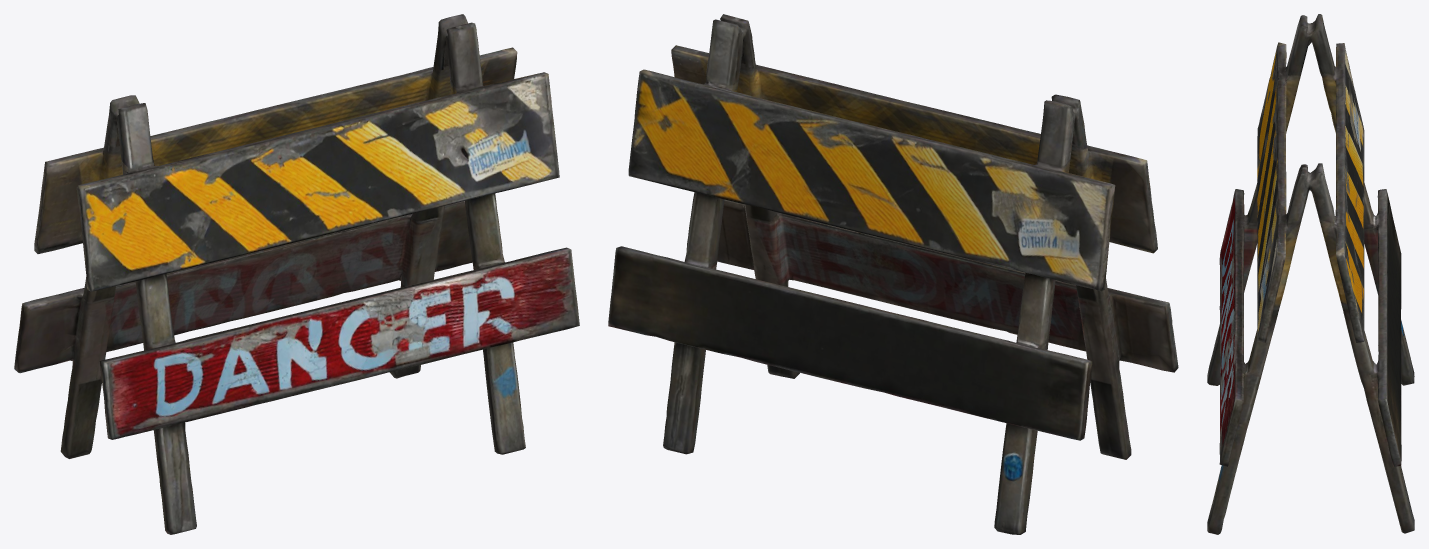
Rendered from danger_barrier_proops.glb.
3 views of the same model, side by side, from view 1: azimuth 30°, elevation 25°; view 2: azimuth 150°, elevation 25°; view 3: azimuth 270°, elevation 25° (orthographic). The views are drawn at different scales.
Parts seen in each view (by area): view 1: Mesh1_Material_0.001_0; view 2: Mesh1_Material_0.001_0; view 3: Mesh1_Material_0.001_0.
Boxes of the visible parts, x1,y1,x2,y2 form: Mesh1_Material_0.001_0: (14,14,579,534); Mesh1_Material_0.001_0: (608,14,1178,534); Mesh1_Material_0.001_0: (1207,14,1414,534).
Size of the model in its own units: 2 by 1.61 by 0.832.
1 material, 1 textured.
